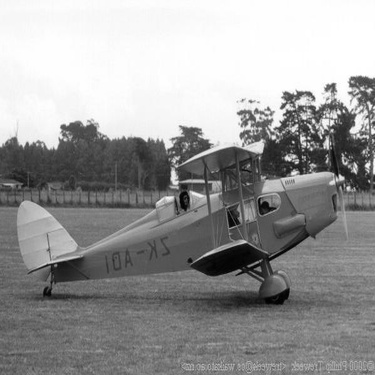airplane: (2, 132, 360, 315)
